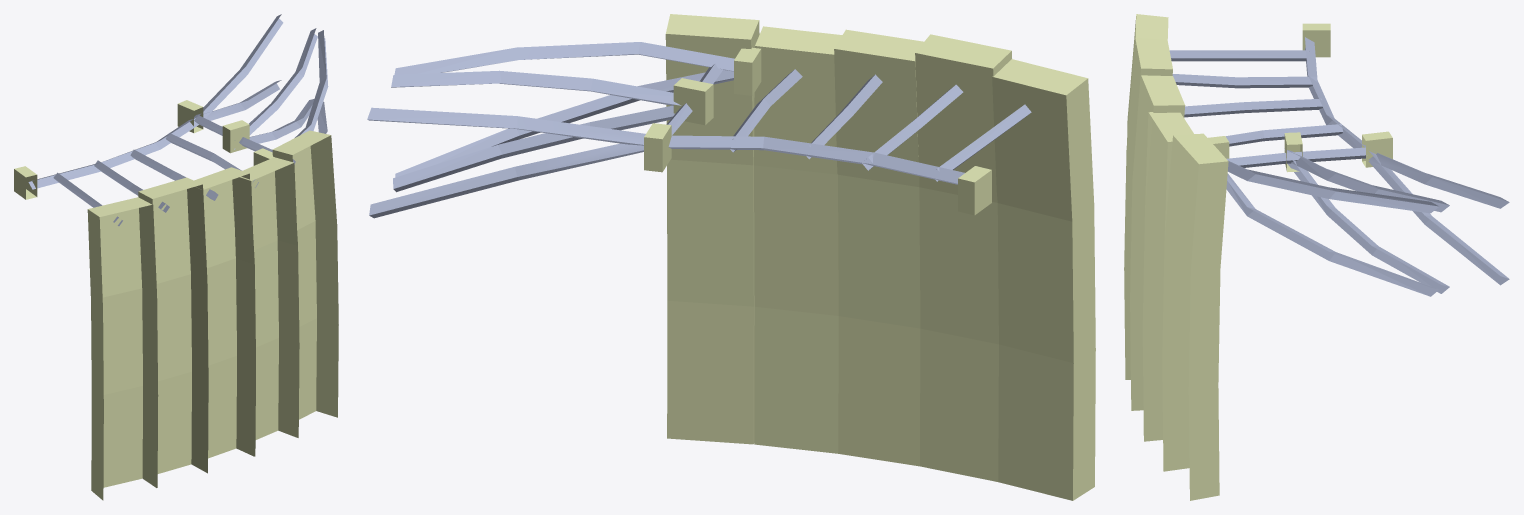
3 views of the same model, side by side, from view 1: azimuth 30°, elevation 25°; view 2: azimuth 150°, elevation 25°; view 3: azimuth 270°, elevation 25° (orthographic). The views are drawn at different scales.
Parts seen in each view (by area): view 1: Object89; view 2: Object89; view 3: Object89.
Part boxes in pixels (x1=…): Object89: x1=14, y1=14, x2=338, y2=500; Object89: x1=367, y1=14, x2=1095, y2=500; Object89: x1=1124, y1=14, x2=1509, y2=500.
Size of the model in its own units: 51095 by 40503 by 40480.
